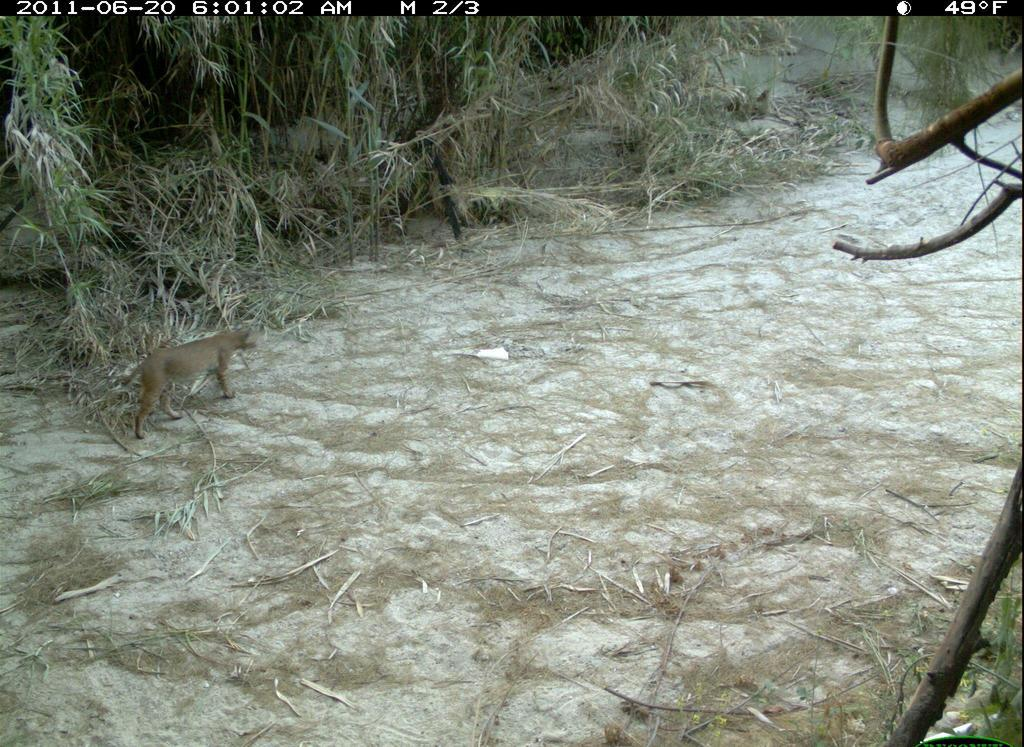bobcat: (114, 326, 280, 451)
